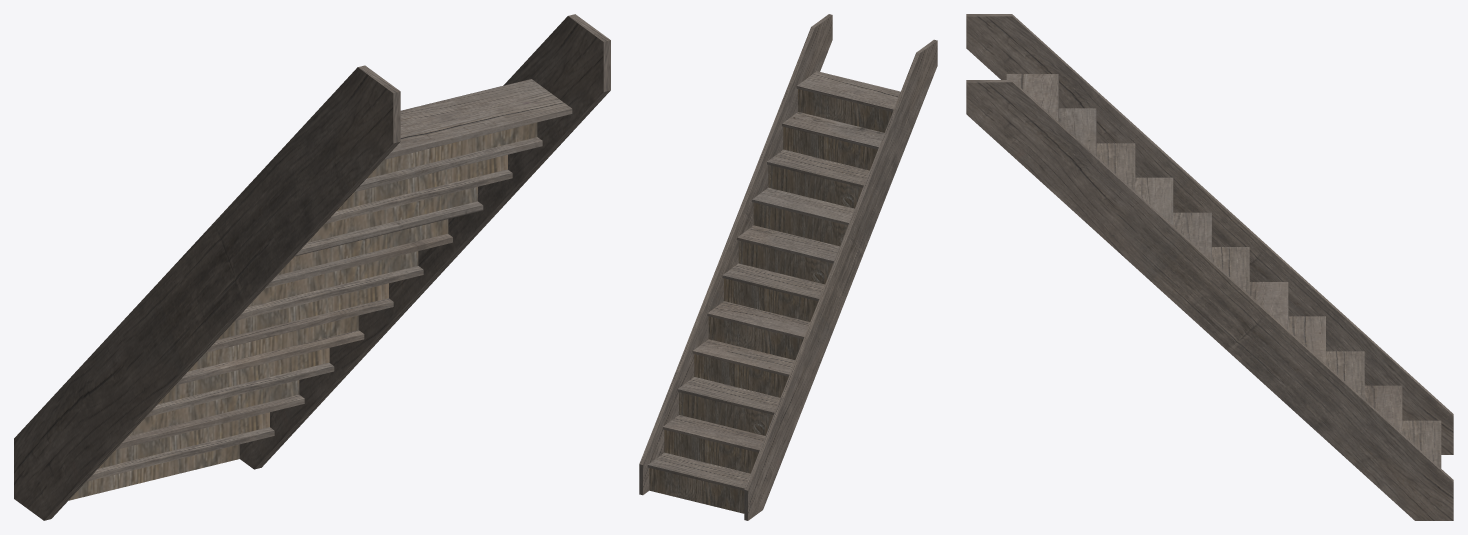
File: woodstair01a.fbx
The picture shows the model from 3 angles, left to right: view 1: azimuth 30°, elevation 25°; view 2: azimuth 150°, elevation 25°; view 3: azimuth 270°, elevation 25°; orthographic projection. The views are drawn at different scales.
Parts seen in each view (by area): view 1: woodstair01a; view 2: woodstair01a; view 3: woodstair01a.
Part boxes in pixels (<box>): woodstair01a: <box>14,14,610,520</box>; woodstair01a: <box>639,14,937,520</box>; woodstair01a: <box>966,14,1453,520</box>.
Size of the model in its own units: 110 by 329 by 331.
